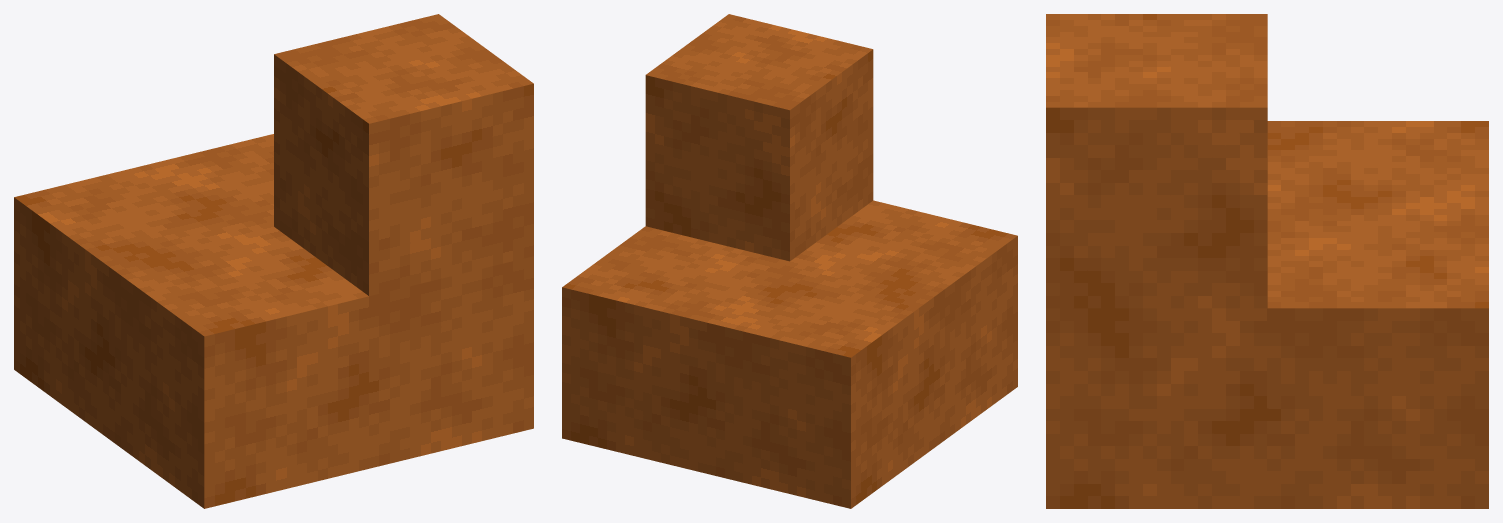
The model's file is block_smooth_red_sandstone_stairs_outer.gltf.
3 renders of one model, left to right at view 1: azimuth 30°, elevation 25°; view 2: azimuth 150°, elevation 25°; view 3: azimuth 270°, elevation 25°, orthographic. The views are drawn at different scales.
Parts seen in each view (by area): view 1: cube (×2); view 2: cube (×2); view 3: cube (×2).
Part boxes in pixels (x1=…): cube (×2): x1=14, y1=14, x2=533, y2=508; cube (×2): x1=562, y1=14, x2=1017, y2=508; cube (×2): x1=1046, y1=14, x2=1488, y2=508.
Size of the model in its own units: 1 by 1 by 1.
Materials: 1 (1 with a texture image).
